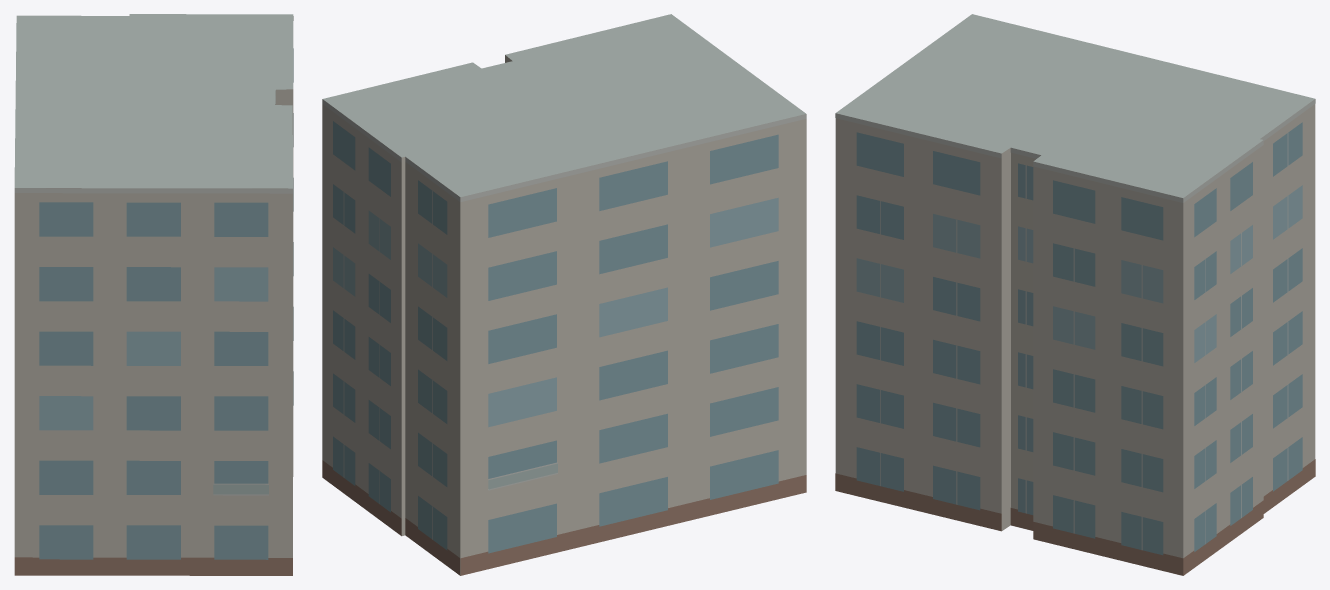
Rendered from survey-upis-32566740.glb.
3 views of the same model, side by side, from view 1: azimuth 30°, elevation 25°; view 2: azimuth 150°, elevation 25°; view 3: azimuth 270°, elevation 25° (orthographic). The views are drawn at different scales.
Visible parts, largest first — view 1: survey-upis-32566740.tmp; view 2: survey-upis-32566740.tmp; view 3: survey-upis-32566740.tmp.
Boxes of the visible parts, x1,y1,x2,y2 form: survey-upis-32566740.tmp: (14, 14, 293, 575); survey-upis-32566740.tmp: (322, 14, 806, 575); survey-upis-32566740.tmp: (835, 14, 1315, 575).
Size of the model in its own units: 19.56 by 18.7 by 21.54.
